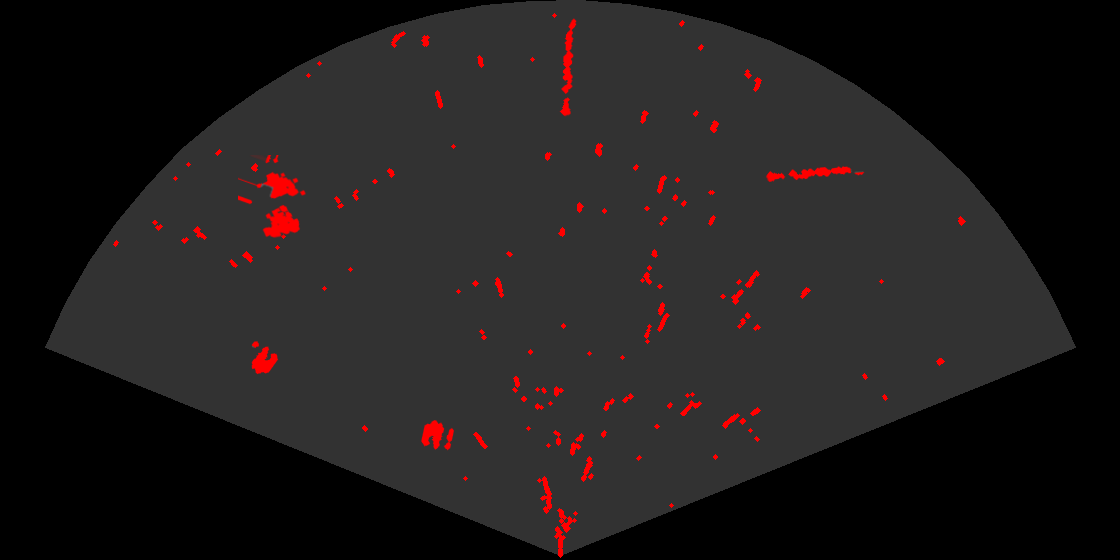ball: (420, 419, 456, 452), (250, 340, 280, 376)
cage: (238, 155, 308, 240)
chain: (558, 17, 578, 117), (763, 165, 866, 183)
